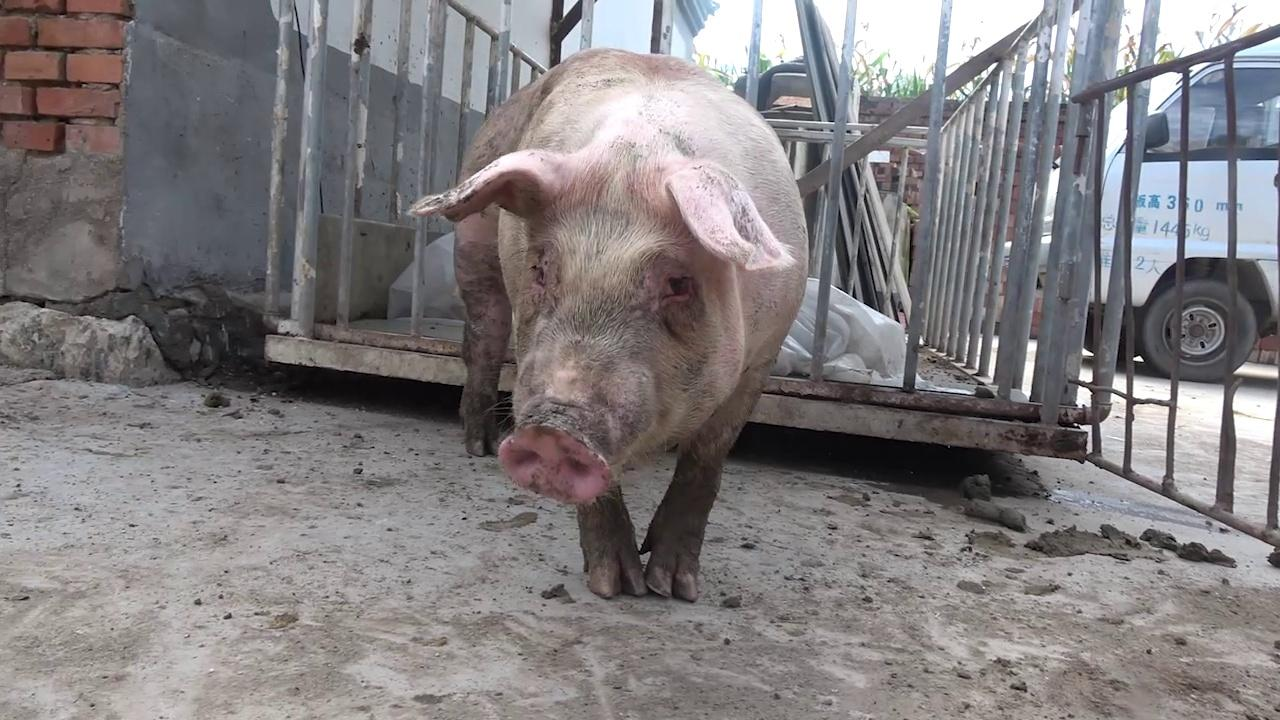Face: (400, 147, 797, 516)
